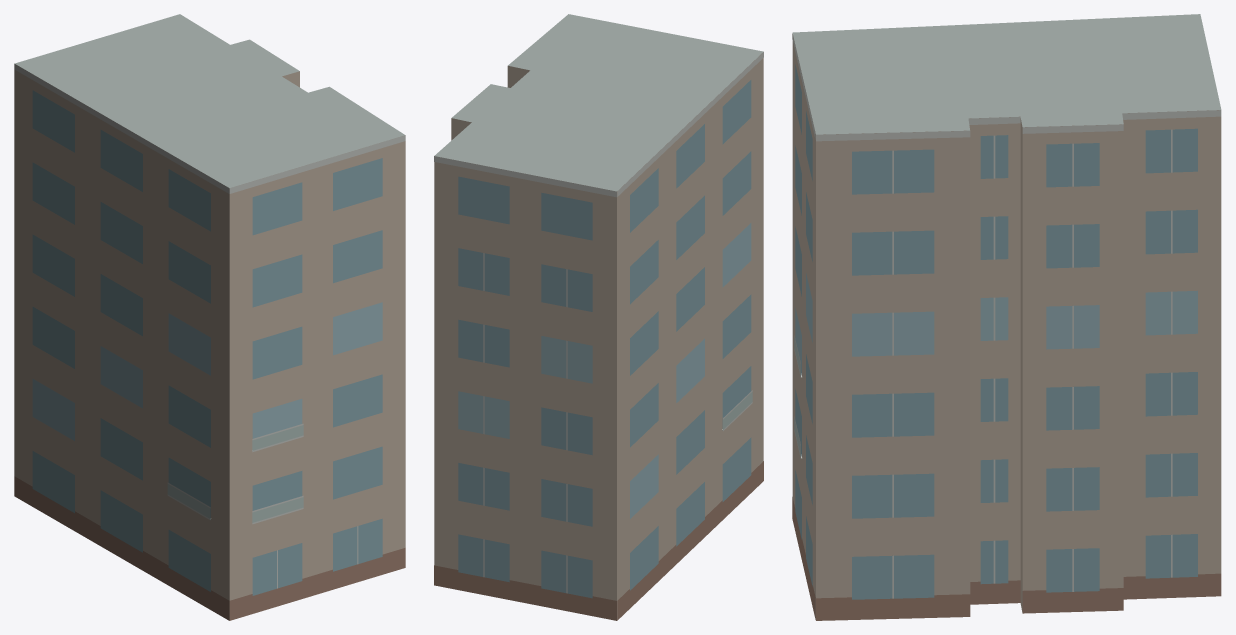
File: survey-upis-32569834.glb
3 views of the same model, side by side, from view 1: azimuth 30°, elevation 25°; view 2: azimuth 150°, elevation 25°; view 3: azimuth 270°, elevation 25° (orthographic). The views are drawn at different scales.
Visible parts, largest first — view 1: survey-upis-32569834.tmp; view 2: survey-upis-32569834.tmp; view 3: survey-upis-32569834.tmp.
Boxes of the visible parts, x1,y1,x2,y2 form: survey-upis-32569834.tmp: [14, 14, 405, 620]; survey-upis-32569834.tmp: [434, 14, 763, 620]; survey-upis-32569834.tmp: [792, 14, 1221, 620].
Size of the model in its own units: 9.48 by 17.8 by 14.24.
